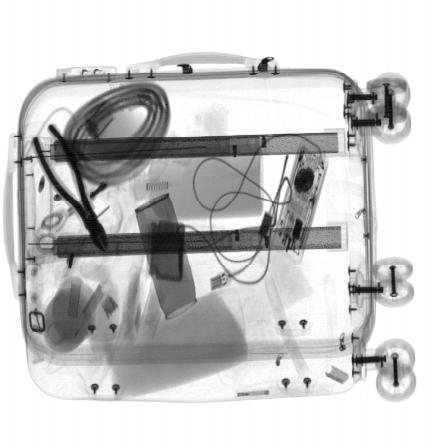Pliers: (33, 121, 109, 252)
